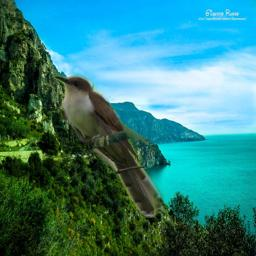Cuckoo: (52, 72, 164, 218)
